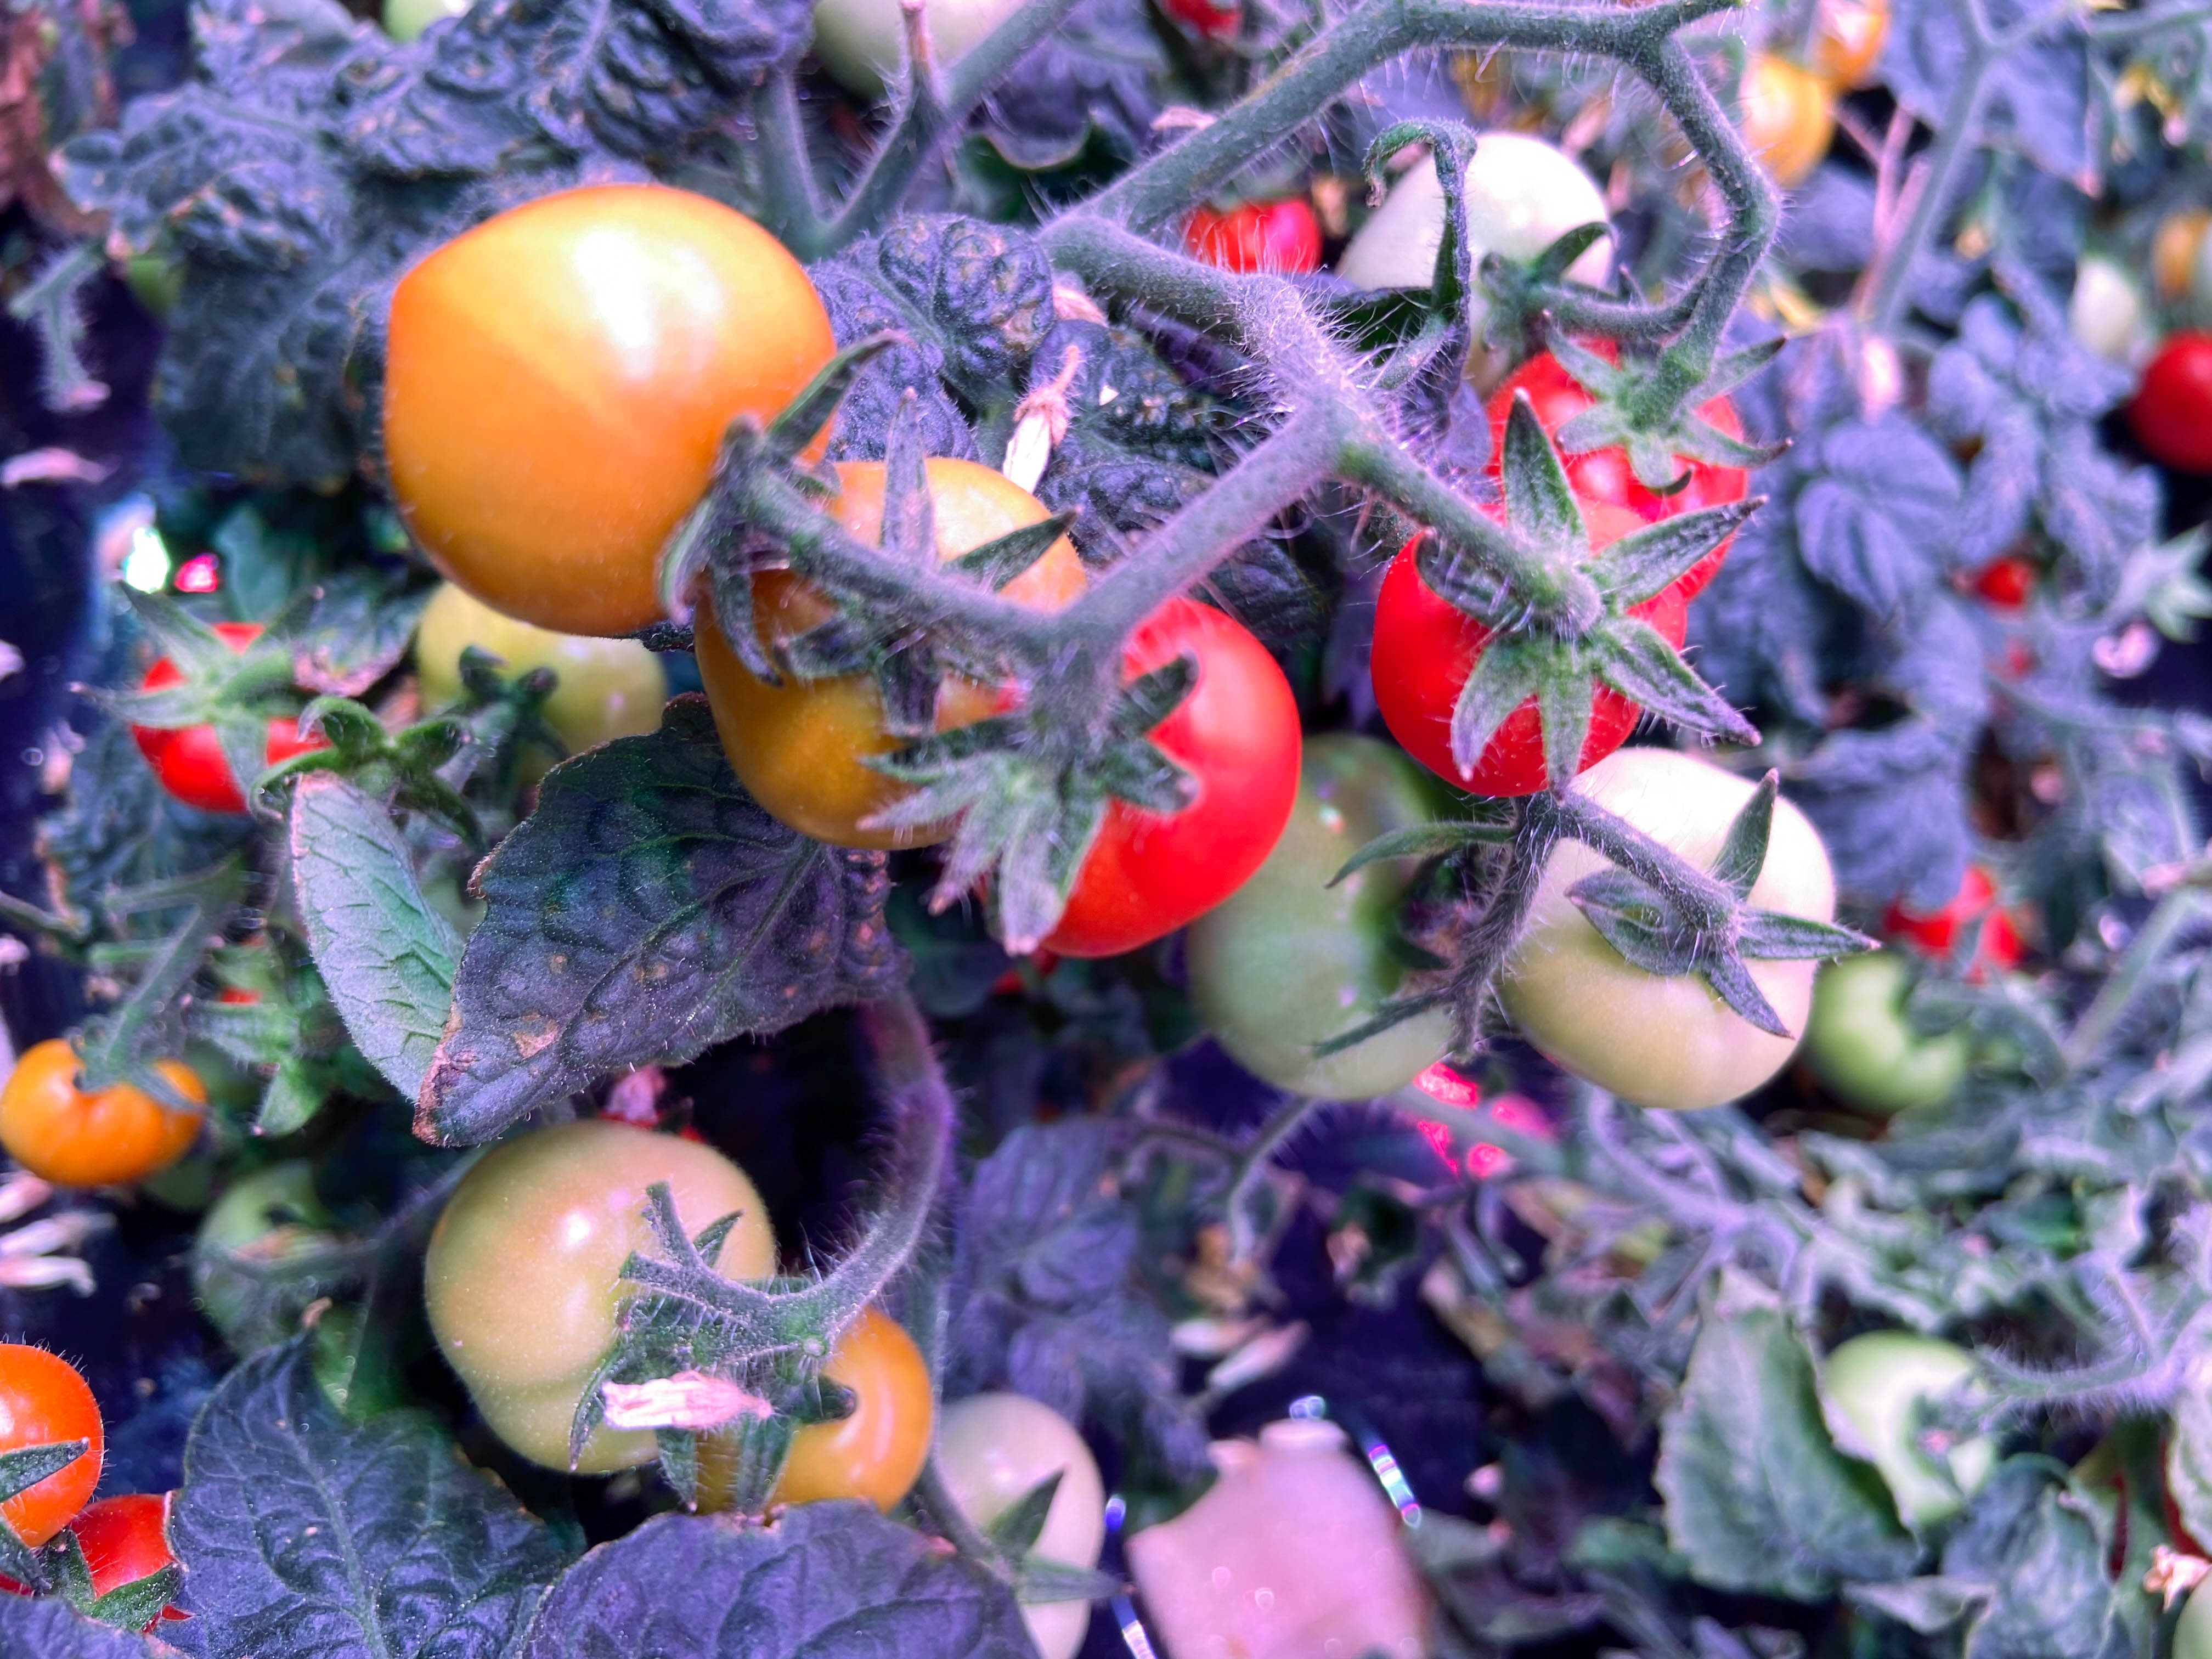green: (421, 1108, 789, 1473), (1494, 746, 1841, 1114), (1190, 735, 1468, 1093), (1402, 129, 1618, 349), (416, 579, 667, 765), (1818, 1326, 1994, 1525), (1804, 948, 1966, 1112), (805, 0, 1054, 103), (192, 1171, 327, 1349)
red: (376, 173, 840, 640), (700, 437, 1090, 859), (956, 584, 1305, 953), (1360, 502, 1676, 802), (1480, 331, 1754, 620), (669, 1297, 939, 1523), (900, 1387, 1106, 1650), (131, 624, 320, 810), (0, 1028, 200, 1187), (0, 1337, 110, 1563), (66, 1497, 199, 1654), (1183, 183, 1320, 286), (2127, 324, 2212, 471), (1905, 877, 2027, 974), (1163, 2, 1242, 35)
